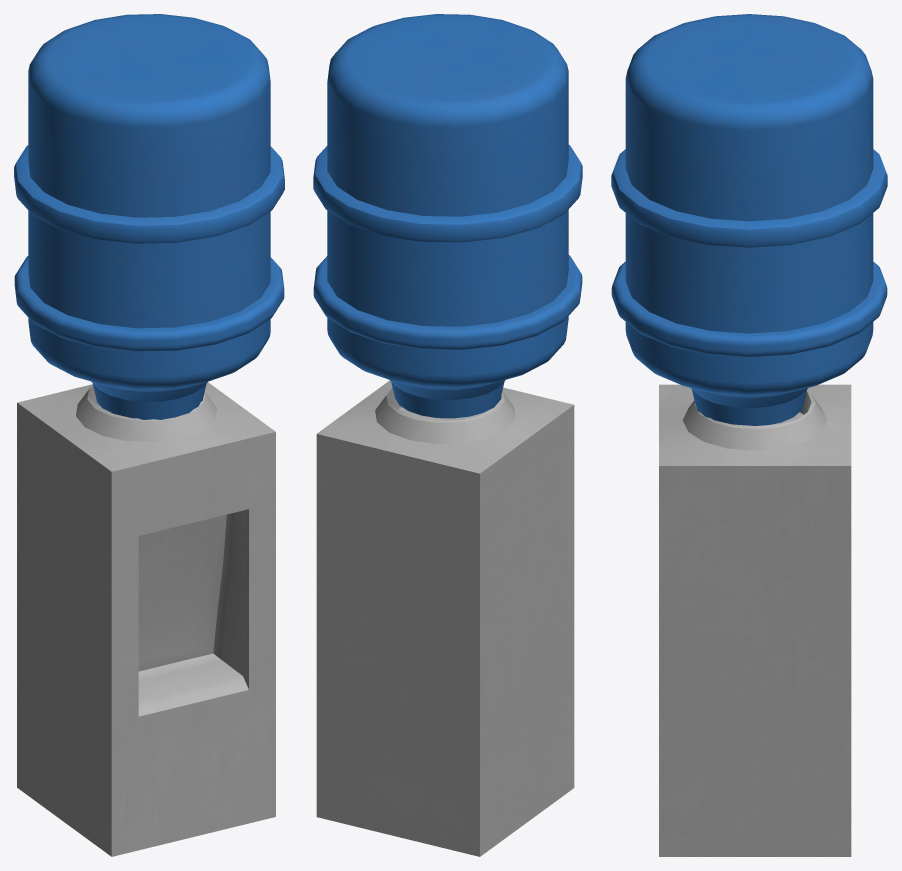
File: Water_dispenser_finished.fbx
3 renders of one model, left to right at view 1: azimuth 30°, elevation 25°; view 2: azimuth 150°, elevation 25°; view 3: azimuth 270°, elevation 25°, orthographic.
Visible parts, largest first — view 1: pCube1, pCylinder1; view 2: pCube1, pCylinder1; view 3: pCylinder1, pCube1.
Boxes of the visible parts, box(x1,y1,x2,y2) form: pCube1: box(17, 382, 275, 856); pCylinder1: box(14, 14, 284, 419); pCube1: box(316, 380, 574, 856); pCylinder1: box(313, 14, 582, 418); pCylinder1: box(611, 14, 887, 425); pCube1: box(659, 384, 851, 856).
Size of the model in its own units: 2.87 by 8.68 by 2.87.
2 materials, 2 textured.
